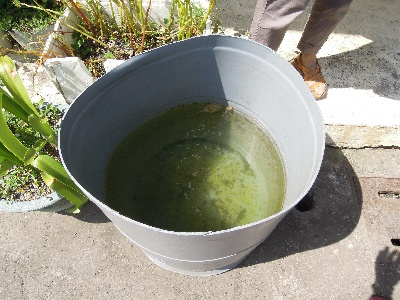bucket: (57, 32, 328, 280)
